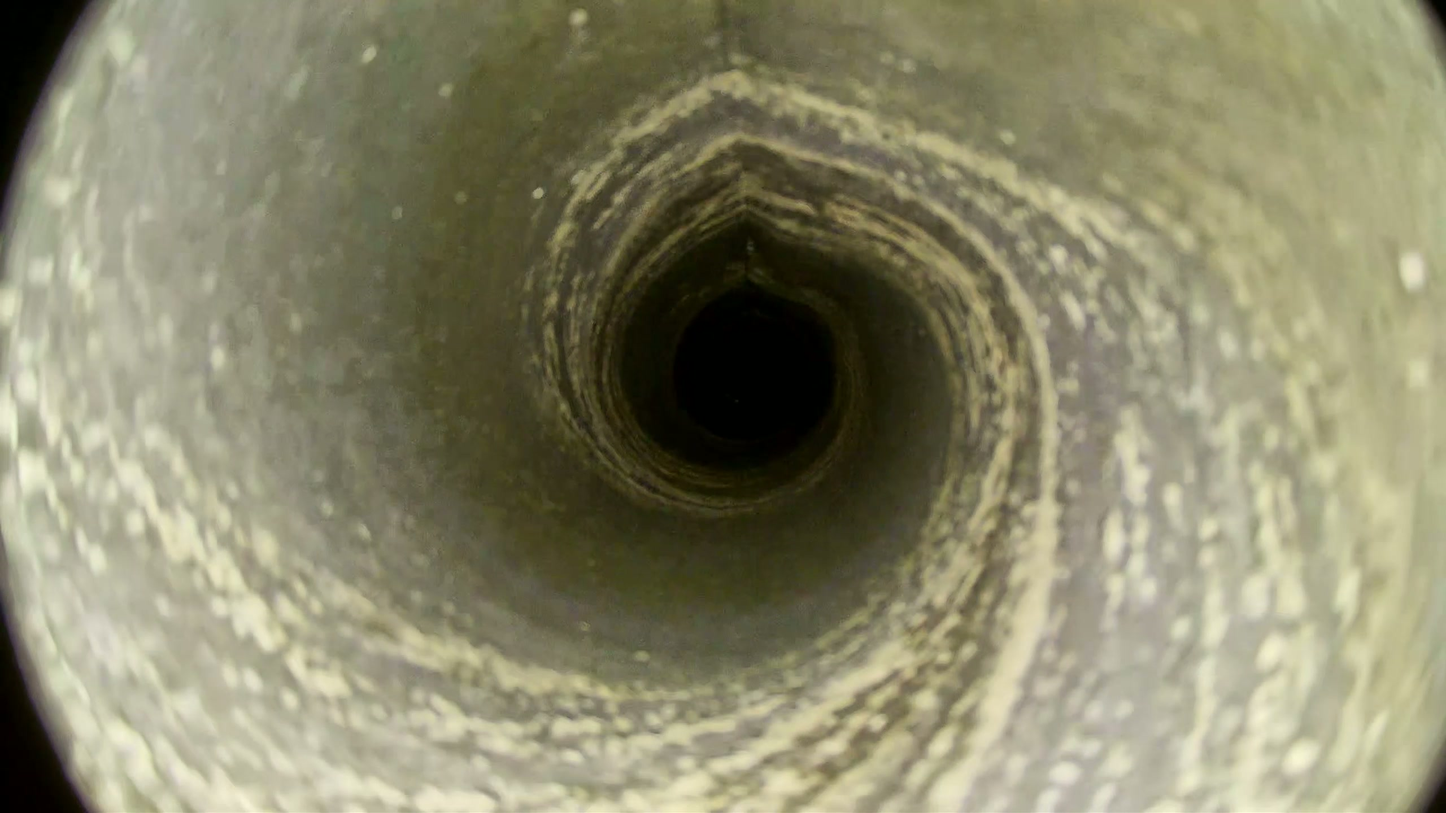hole: (689, 319, 810, 439)
